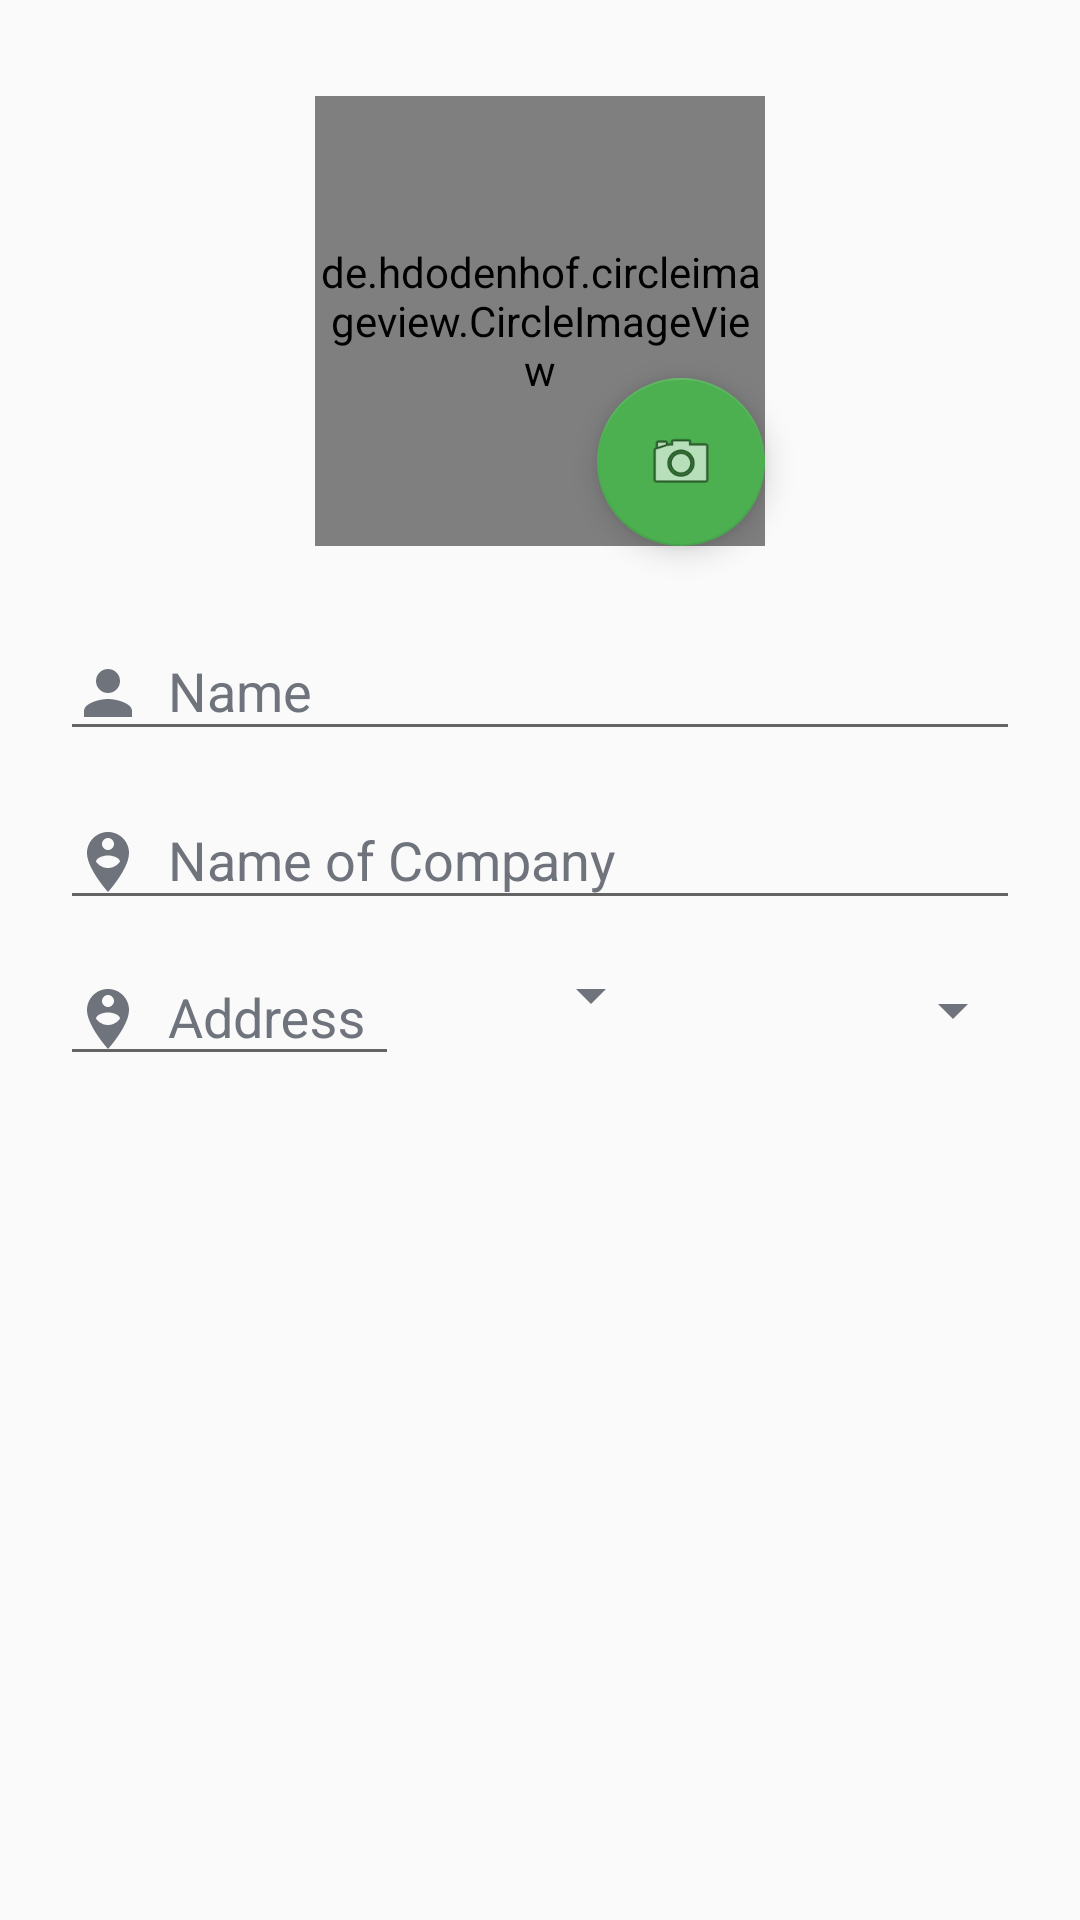

Icons on this 1080x1920 Android screen, each with the point to tap as point (x, y):
camera: point (681, 462)
